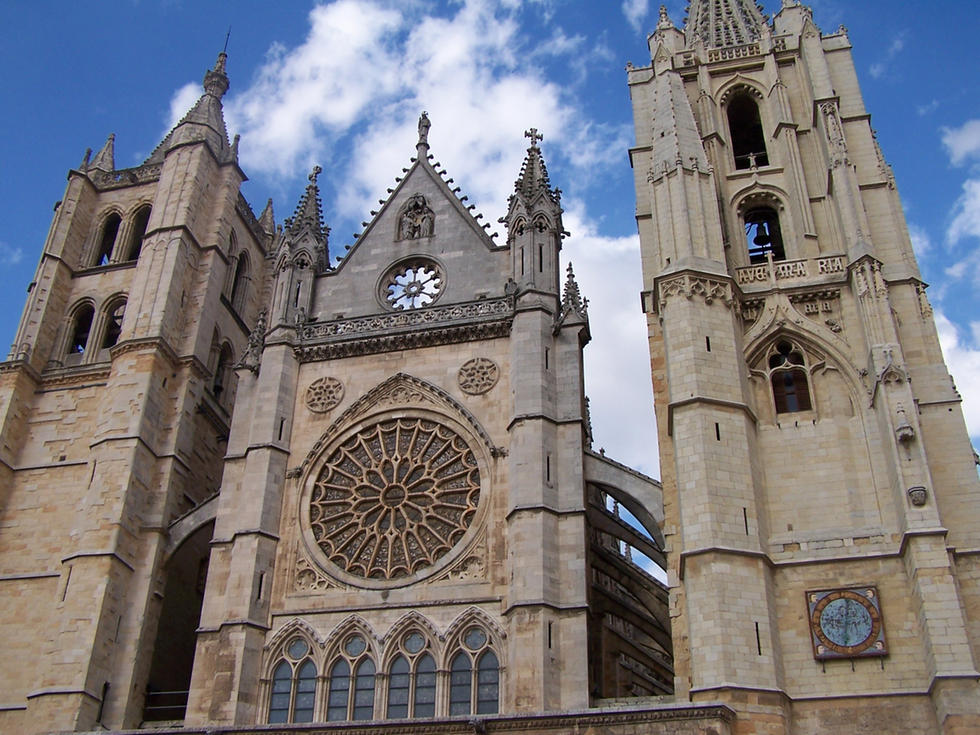arco-apuntado: (297, 366, 505, 469), (740, 323, 849, 377), (381, 608, 444, 671), (443, 604, 506, 666), (264, 616, 324, 677), (323, 613, 381, 674)
arco-conopial: (732, 177, 789, 204), (715, 71, 767, 92)
pinaculo-gotico: (277, 159, 333, 257), (503, 124, 562, 217), (561, 255, 586, 313)
